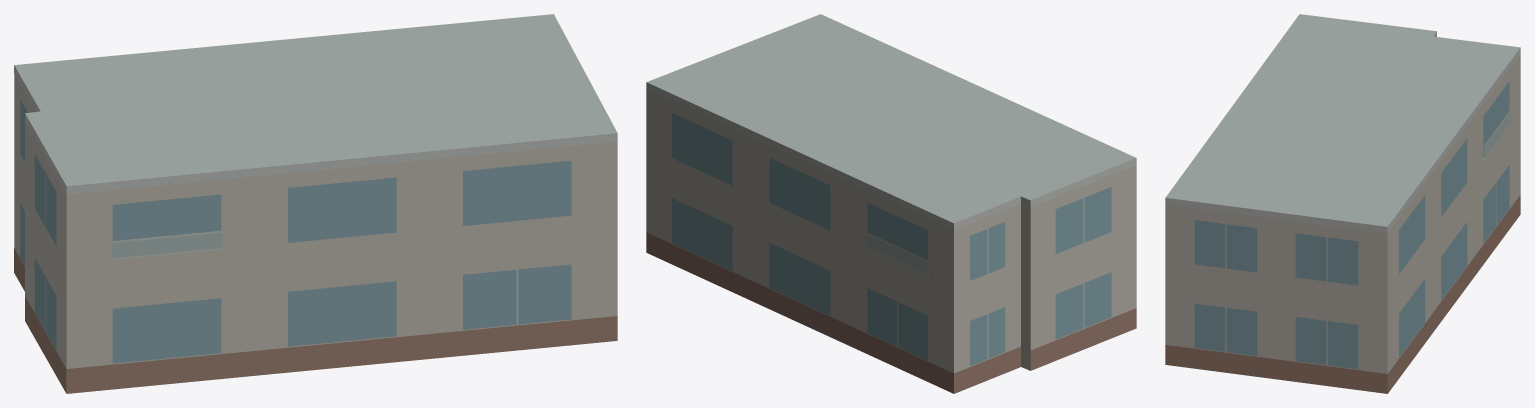
Rendered from survey-upis-32981318.glb.
The picture shows the model from 3 angles, left to right: view 1: azimuth 30°, elevation 25°; view 2: azimuth 150°, elevation 25°; view 3: azimuth 270°, elevation 25°; orthographic projection. The views are drawn at different scales.
Parts seen in each view (by area): view 1: survey-upis-32981318.tmp; view 2: survey-upis-32981318.tmp; view 3: survey-upis-32981318.tmp.
Boxes of the visible parts, bbox=[...] form: survey-upis-32981318.tmp: bbox=[14, 14, 617, 393]; survey-upis-32981318.tmp: bbox=[646, 14, 1136, 393]; survey-upis-32981318.tmp: bbox=[1165, 14, 1520, 393].
Bounding box in the file's own units: 16.68 × 6.1 × 11.77.
